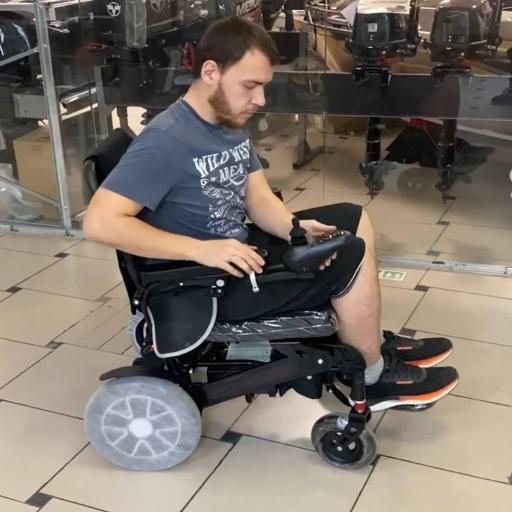road: (85, 129, 376, 471)
